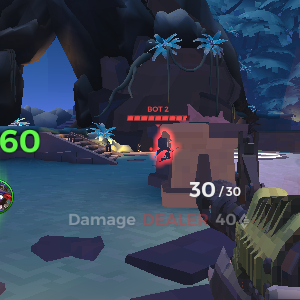model: (151, 129, 178, 167)
